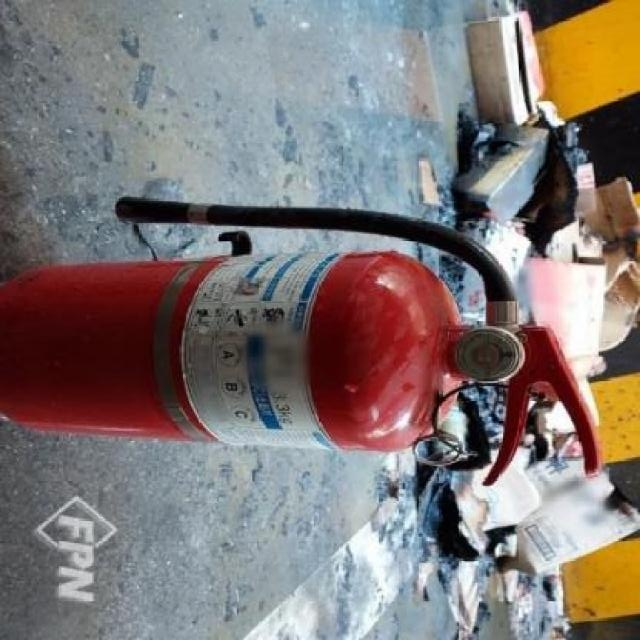fire extinguisher: (0, 195, 605, 488)
